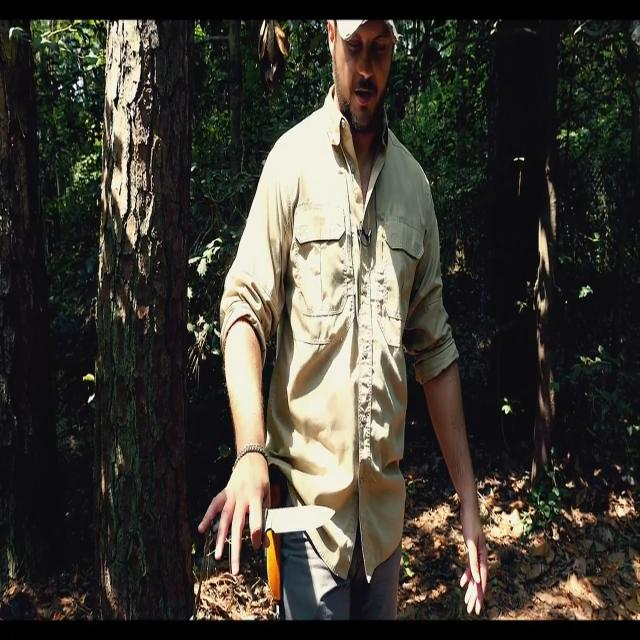knife: (205, 510, 340, 538)
